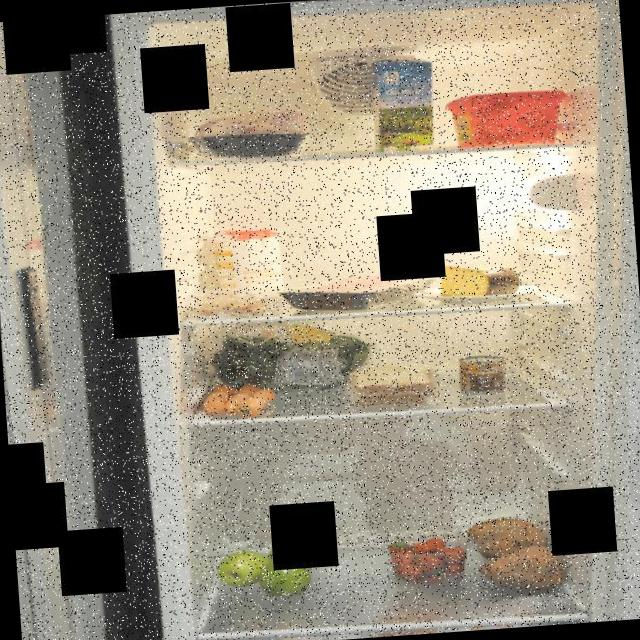Carne pollo: (185, 100, 318, 165)
Carne vacuno: (277, 266, 438, 316)
Leche: (366, 51, 441, 156)
Mantequilla: (441, 83, 570, 152)
Manzana: (208, 534, 330, 605)
Queso: (436, 256, 522, 301)
Zanahoria: (197, 378, 282, 422)
bread: (342, 358, 437, 408)
corn: (454, 352, 508, 398)
spinach: (208, 318, 380, 401)
strawberries: (379, 528, 476, 590)
sugar: (209, 223, 289, 306)
sweet_potato: (460, 510, 576, 600)
